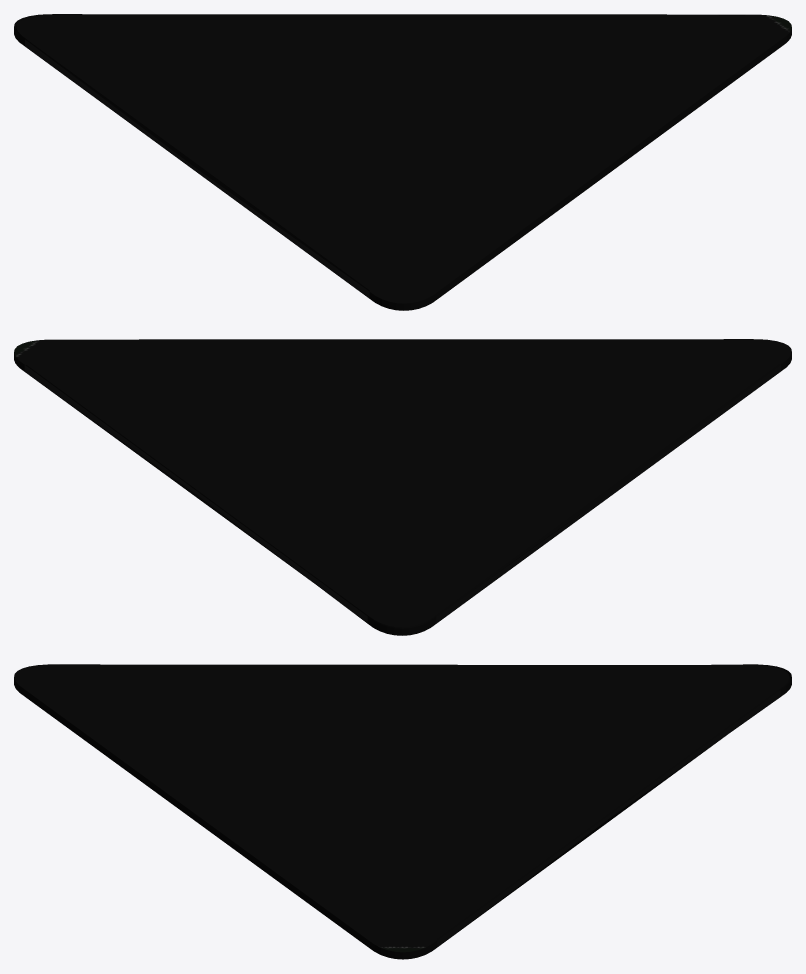
The picture shows the model from 3 angles, top to bottom: view 1: azimuth 30°, elevation 25°; view 2: azimuth 150°, elevation 25°; view 3: azimuth 270°, elevation 25°; orthographic projection.
Visible parts, largest first — view 1: Cube.003; view 2: Cube.003; view 3: Cube.003.
Part boxes in pixels (left/top/right/bottom): Cube.003: left=14, top=14, right=791, bottom=310; Cube.003: left=14, top=339, right=791, bottom=635; Cube.003: left=14, top=664, right=791, bottom=959.
Bounding box in the file's own units: 0.0743 × 0.000864 × 0.0849.
Materials: 1 (1 with a texture image).
